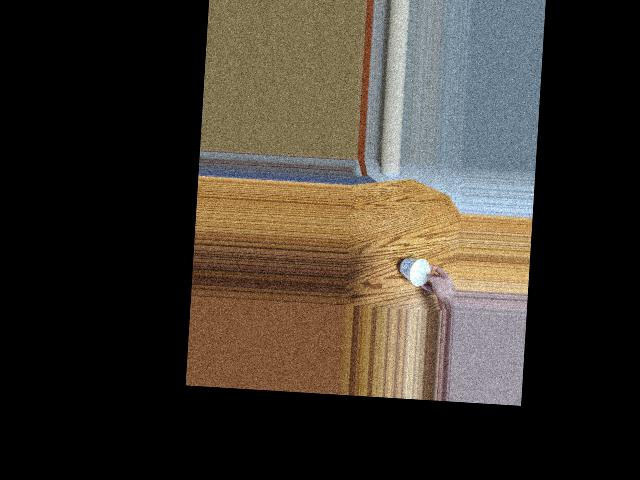cotage: (400, 258, 431, 281)
